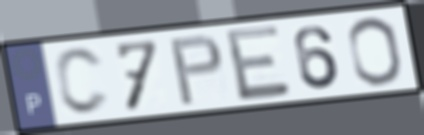6: (291, 24, 342, 91)
7: (113, 36, 161, 113)
C: (52, 45, 113, 117)
E: (221, 22, 294, 104)
O: (345, 15, 406, 88)
P: (167, 32, 226, 108)
